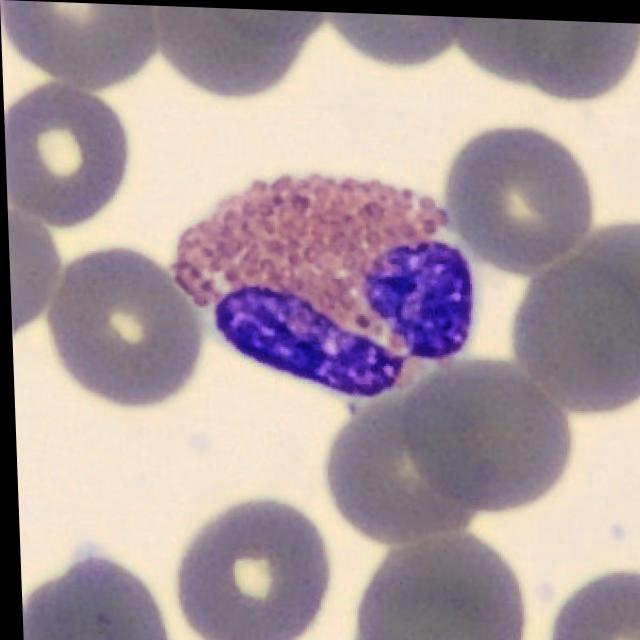Eosinofilo: (175, 174, 467, 391)
